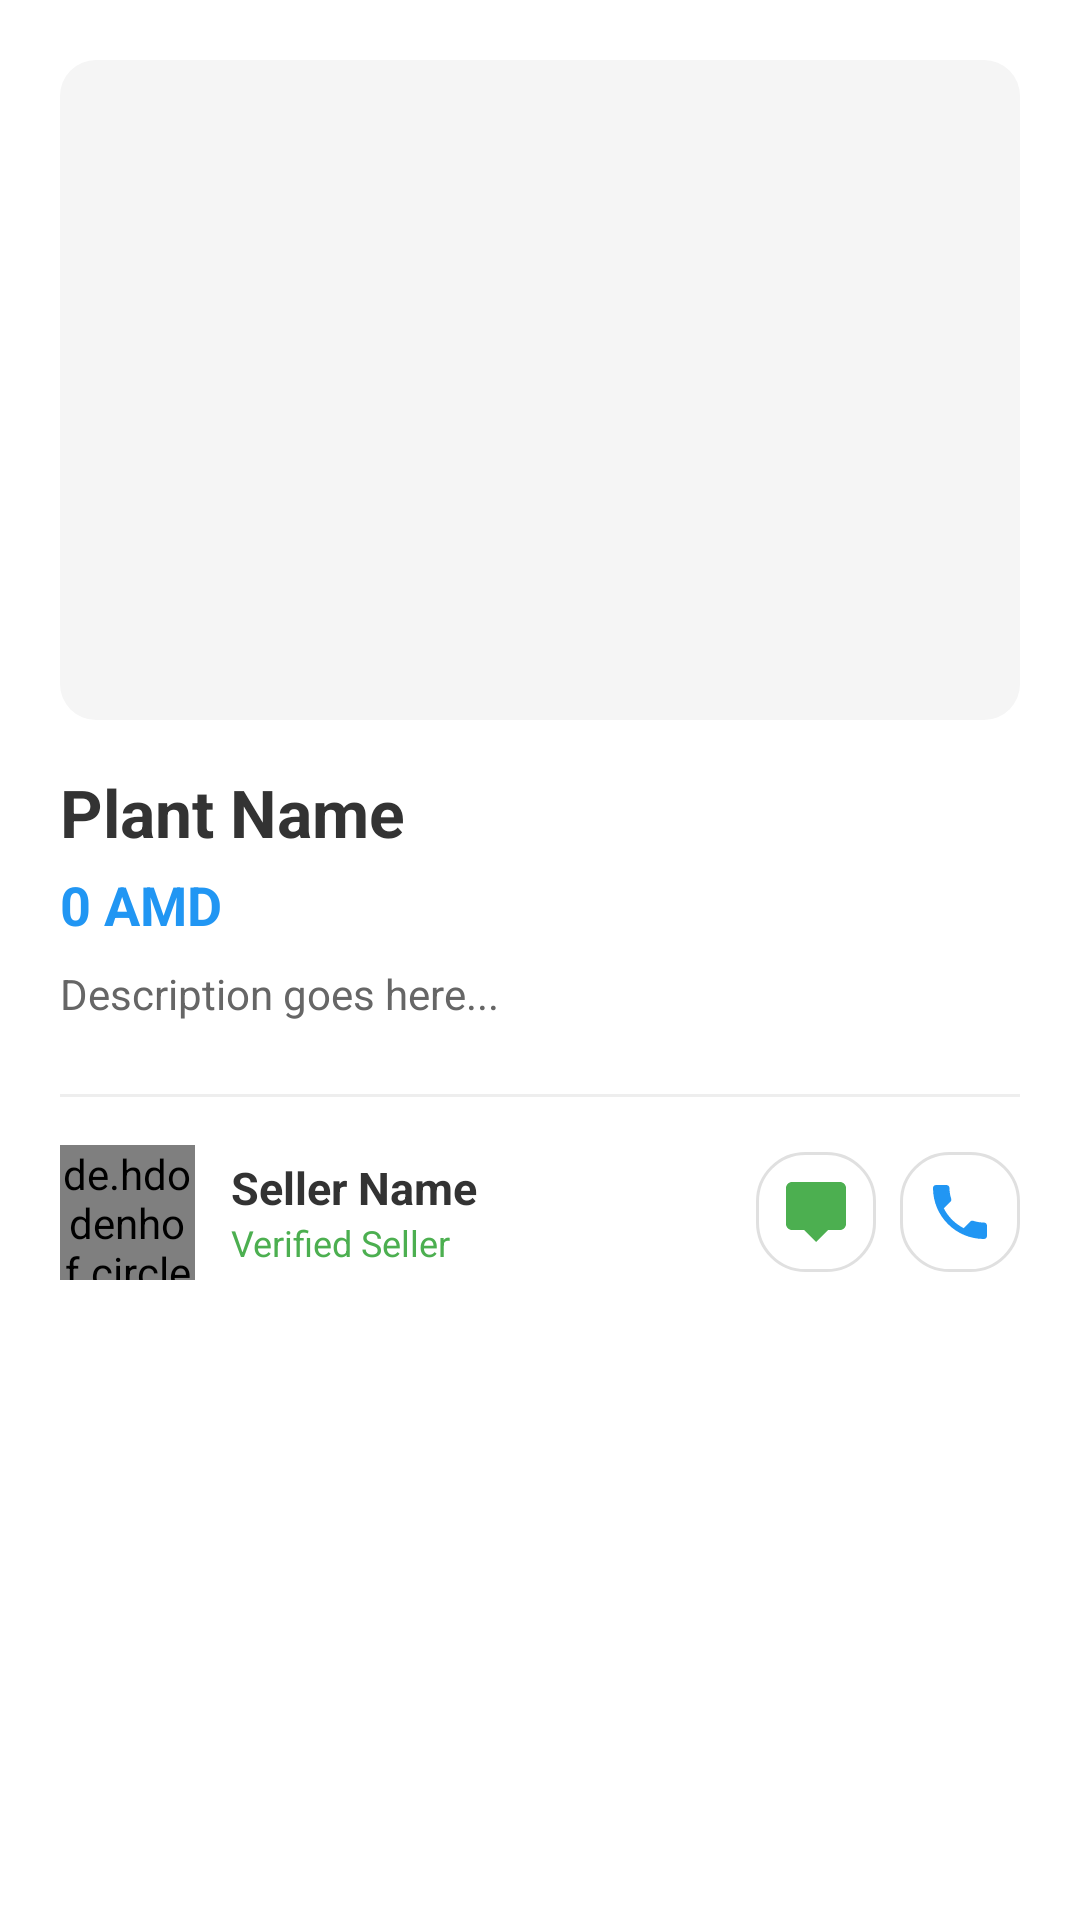

Icon click points for this 1080px x 1920px phone screenshot, format (x,y):
phone: (960,1212)
